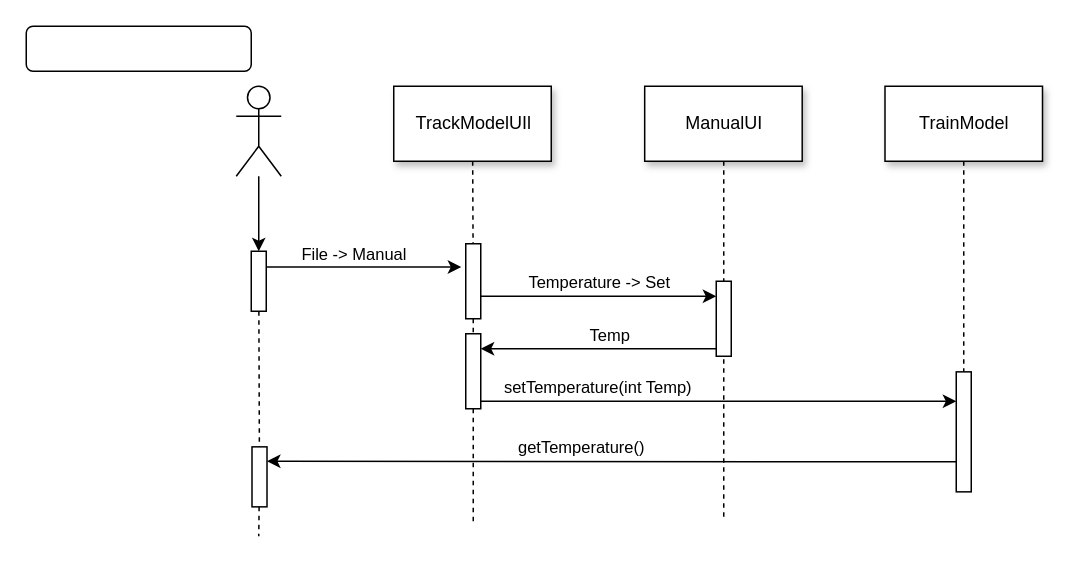
This 1079x564 diagram has some shape labels left out. The centre of each missing label's shape, as x and y in pixels:
"Change Temperature" goes at (138,48).
"User" goes at (258,130).
